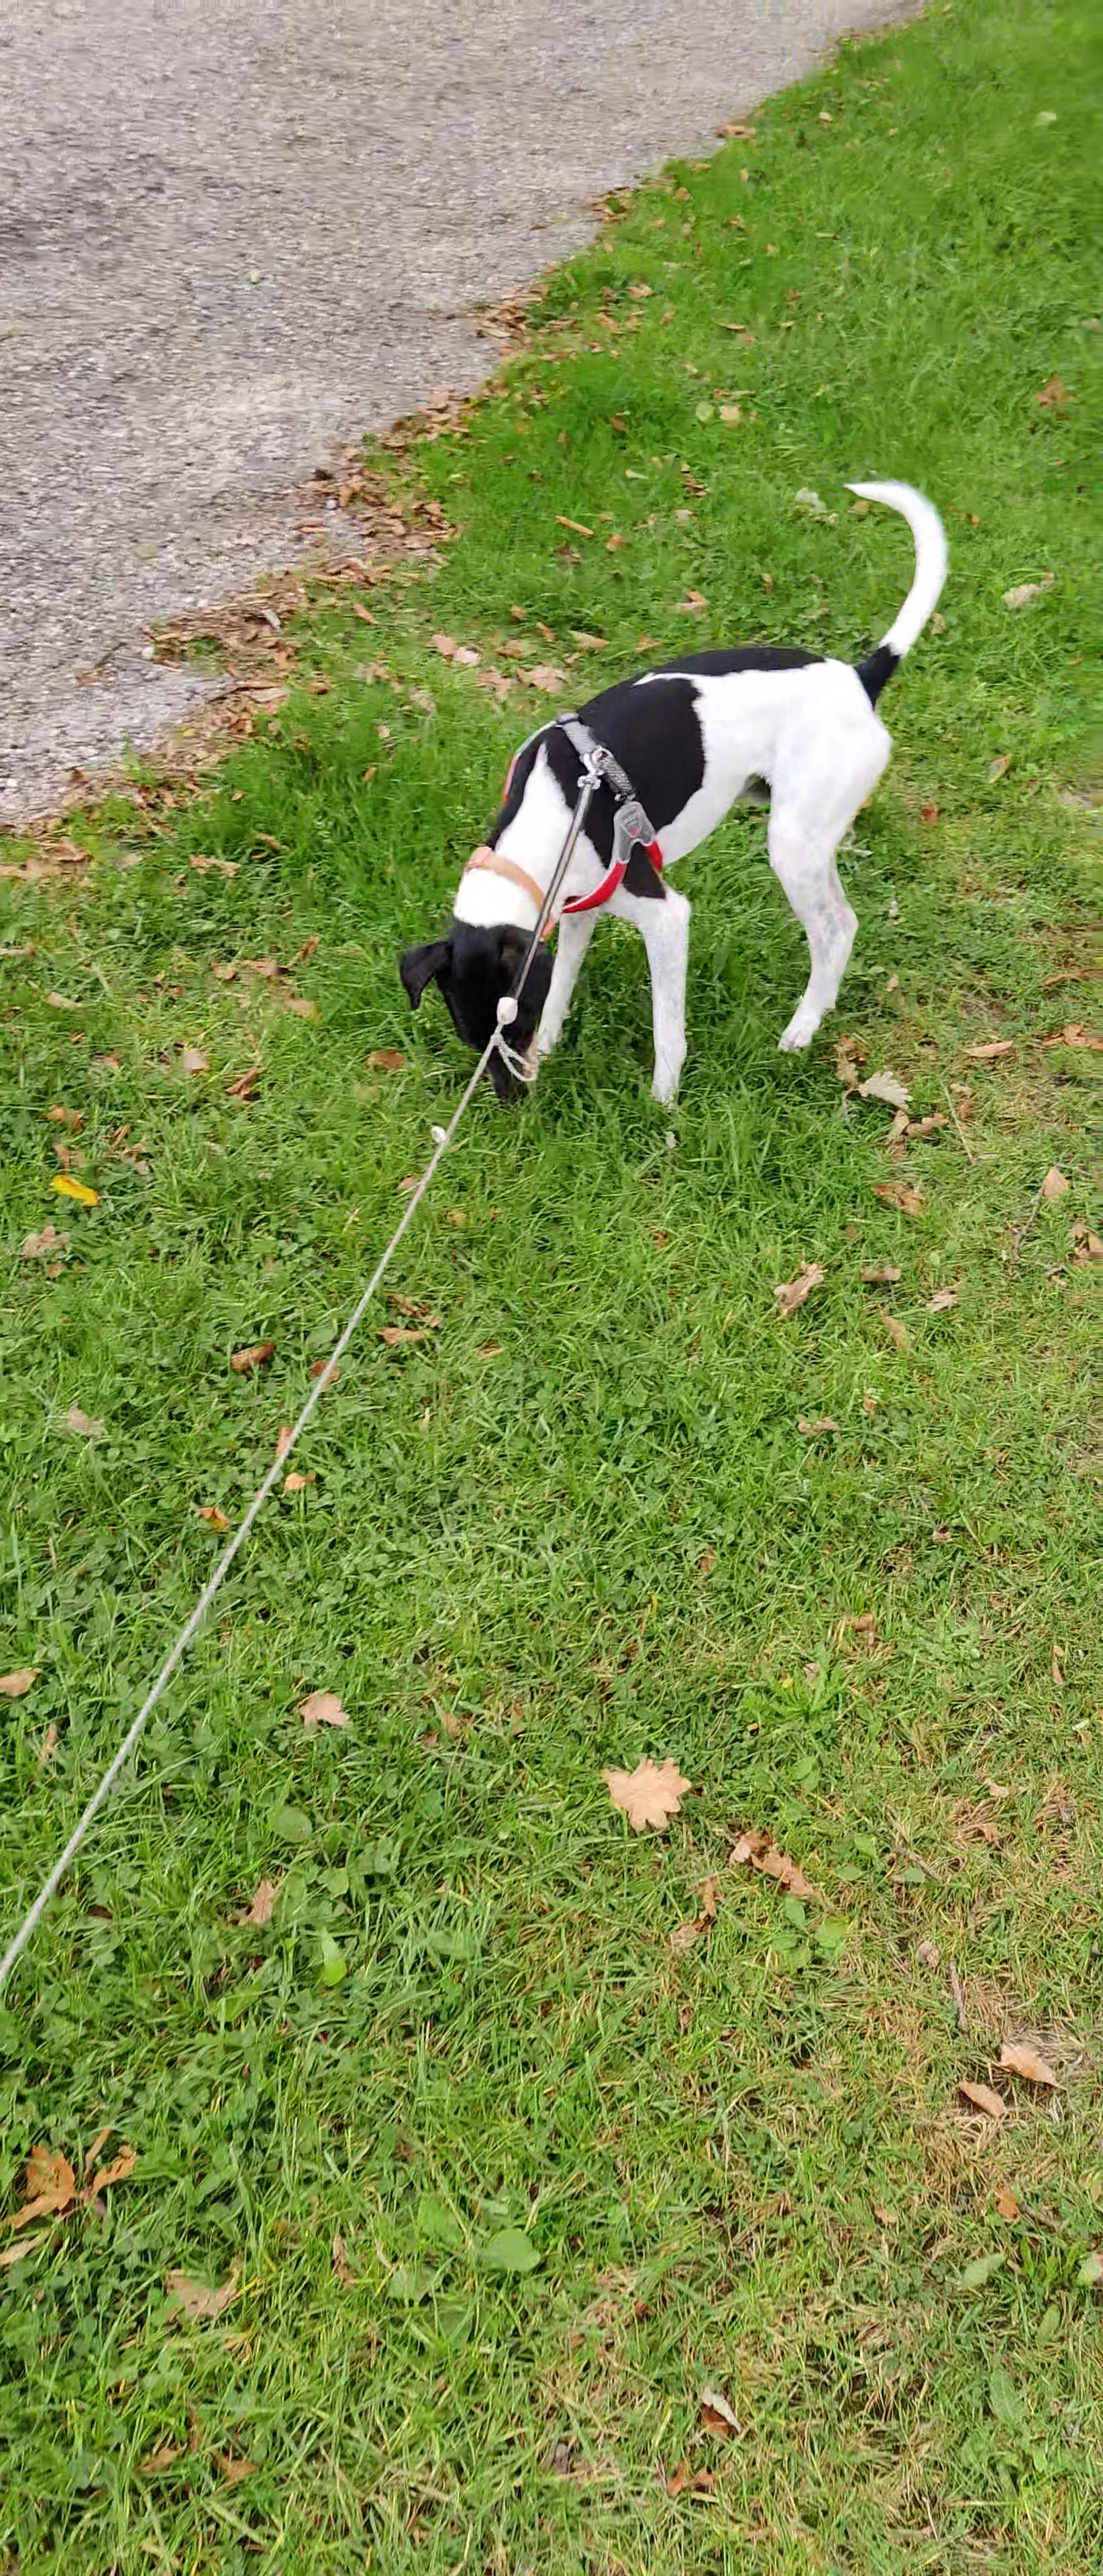Dog: (390, 475, 948, 1112)
